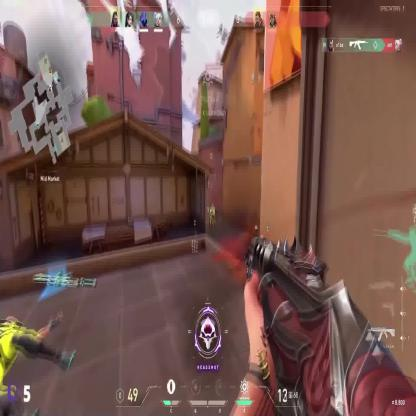enemy: (208, 201, 216, 231)
enemy_head: (212, 203, 214, 208)
